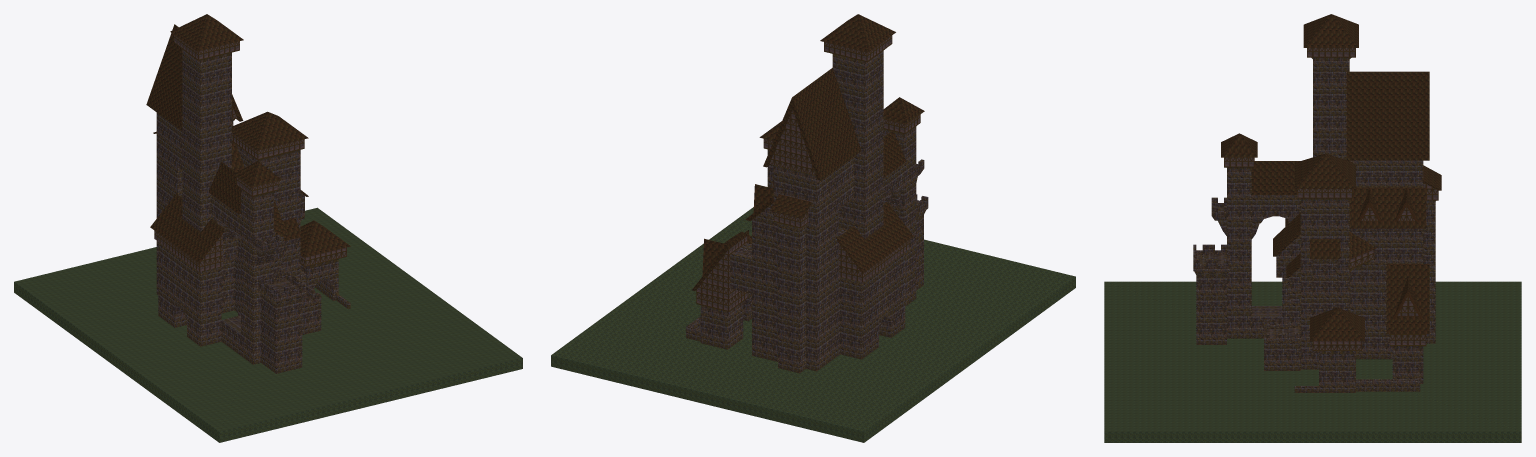
File: castlebl.glb
The picture shows the model from 3 angles, left to right: view 1: azimuth 30°, elevation 25°; view 2: azimuth 150°, elevation 25°; view 3: azimuth 270°, elevation 25°; orthographic projection. The views are drawn at different scales.
Visible parts, largest first — view 1: entity0_brush0; view 2: entity0_brush0; view 3: entity0_brush0.
Boxes of the visible parts, x1=… form: entity0_brush0: x1=14, y1=14, x2=522, y2=442; entity0_brush0: x1=551, y1=14, x2=1075, y2=442; entity0_brush0: x1=1104, y1=14, x2=1521, y2=442.
Bounding box in the file's own units: 232 × 236 × 272.
7 materials, 7 textured.
